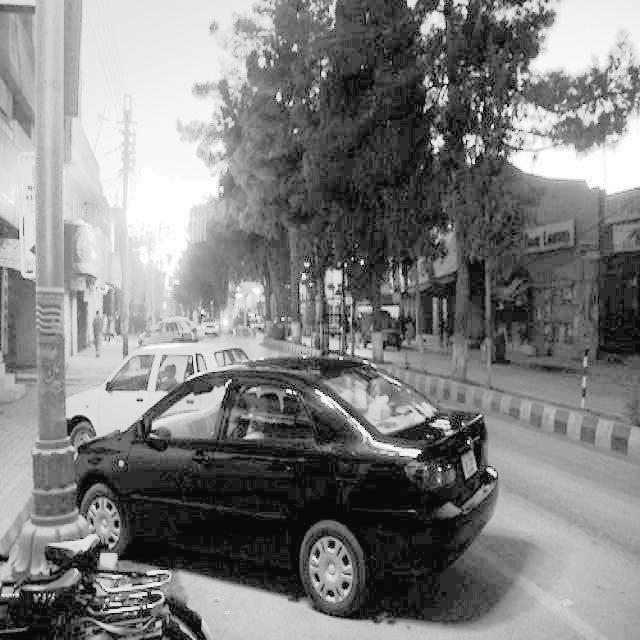Car: (100, 388, 453, 575), (94, 324, 320, 454)
Motorcycle: (8, 524, 247, 640)
